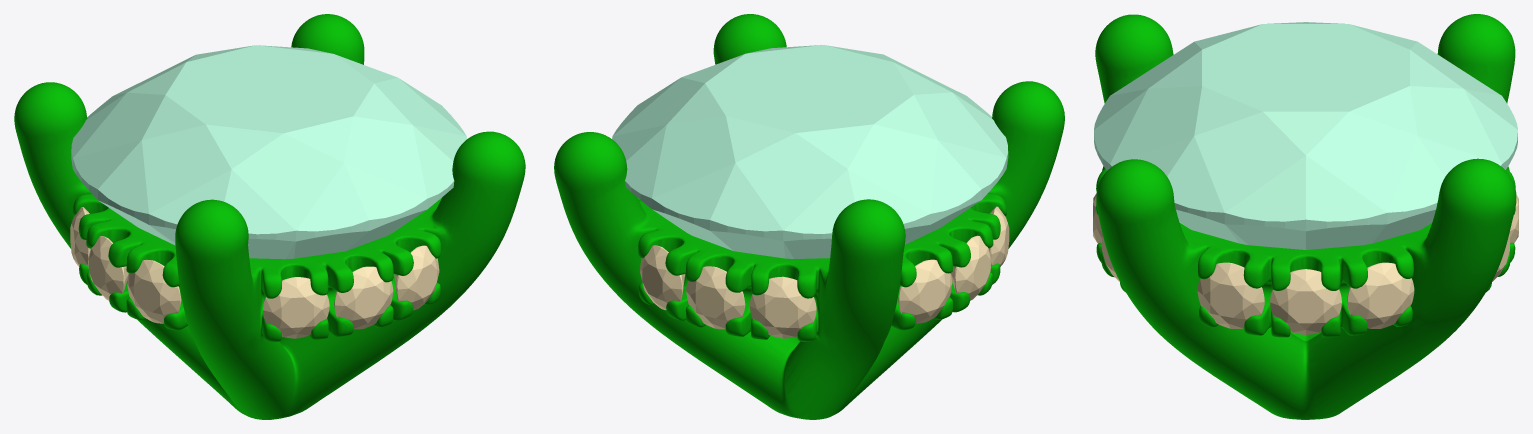
The picture shows the model from 3 angles, left to right: view 1: azimuth 30°, elevation 25°; view 2: azimuth 150°, elevation 25°; view 3: azimuth 270°, elevation 25°; orthographic projection. The views are drawn at different scales.
Visible parts, largest first — view 1: CS_Diamond, Metal01, Diamond_Round.011, Diamond_Round.010, Diamond_Round.002, Diamond_Round.009, Diamond_Round.001, Diamond_Round; view 2: CS_Diamond, Metal01, Diamond_Round.005, Diamond_Round.004, Diamond_Round, Diamond_Round.003, Diamond_Round.001, Diamond_Round.002; view 3: CS_Diamond, Metal01, Diamond_Round.007, Diamond_Round.008, Diamond_Round.006.
Part boxes in pixels (x1=…): CS_Diamond: x1=71, y1=45, x2=466, y2=259; Metal01: x1=14, y1=14, x2=525, y2=419; Diamond_Round.011: x1=262, y1=277, x2=329, y2=338; Diamond_Round.010: x1=334, y1=266, x2=393, y2=329; Diamond_Round.002: x1=127, y1=259, x2=181, y2=323; Diamond_Round.009: x1=394, y1=245, x2=439, y2=310; Diamond_Round.001: x1=88, y1=236, x2=128, y2=300; Diamond_Round: x1=70, y1=207, x2=90, y2=266; CS_Diamond: x1=612, y1=45, x2=1008, y2=258; Metal01: x1=554, y1=14, x2=1064, y2=419; Diamond_Round.005: x1=749, y1=276, x2=816, y2=338; Diamond_Round.004: x1=686, y1=266, x2=745, y2=329; Diamond_Round: x1=898, y1=259, x2=952, y2=323; Diamond_Round.003: x1=640, y1=245, x2=684, y2=310; Diamond_Round.001: x1=950, y1=235, x2=991, y2=300; Diamond_Round.002: x1=989, y1=206, x2=1009, y2=266; CS_Diamond: x1=1094, y1=22, x2=1517, y2=249; Metal01: x1=1095, y1=14, x2=1516, y2=419; Diamond_Round.007: x1=1270, y1=269, x2=1341, y2=334; Diamond_Round.008: x1=1347, y1=262, x2=1414, y2=328; Diamond_Round.006: x1=1197, y1=262, x2=1264, y2=328.
Size of the model in its own units: 6.52 by 5.71 by 6.52.
